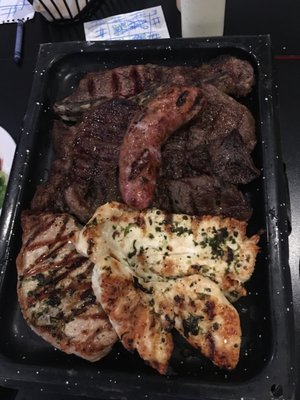sandwich: (13, 57, 281, 389), (74, 202, 258, 376)
